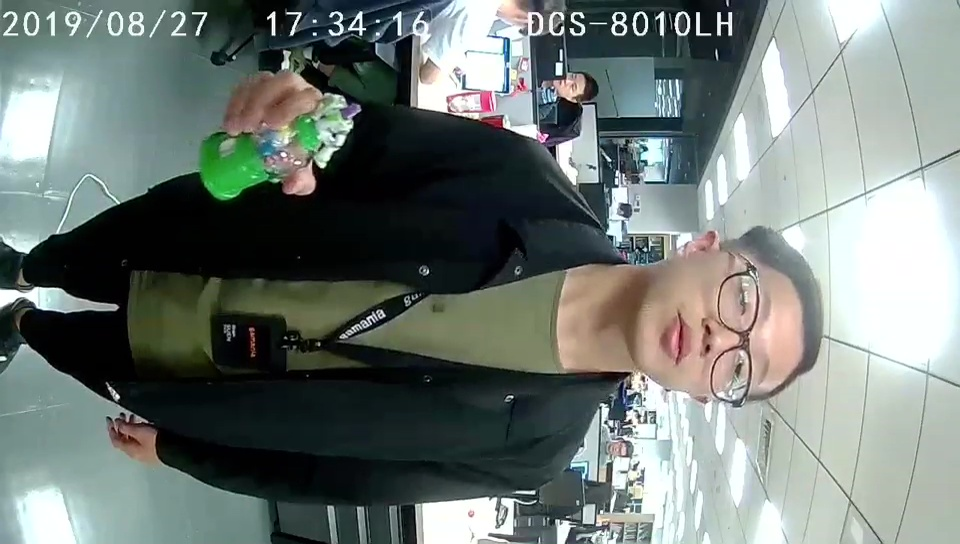buzz: (199, 90, 360, 205)
